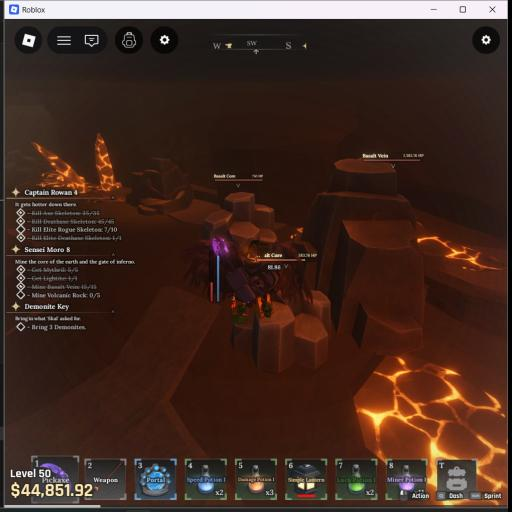player: (182, 236, 311, 322)
rock: (303, 156, 424, 352), (231, 301, 329, 372), (203, 192, 276, 248), (125, 158, 194, 212)
